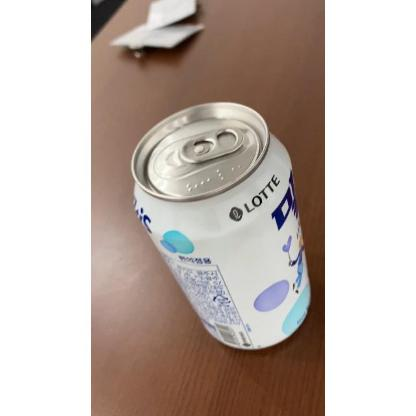Can: (128, 103, 314, 353)
